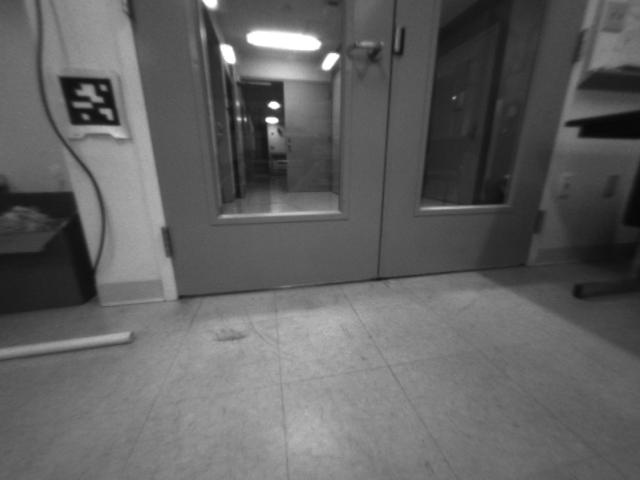door_handle: (339, 36, 385, 63)
